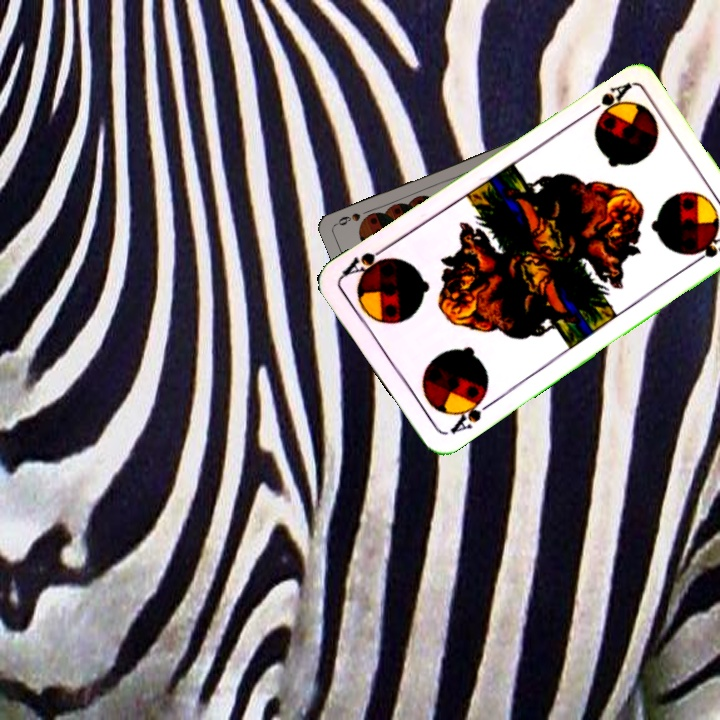SA: (446, 388, 497, 437), (580, 79, 633, 120)
